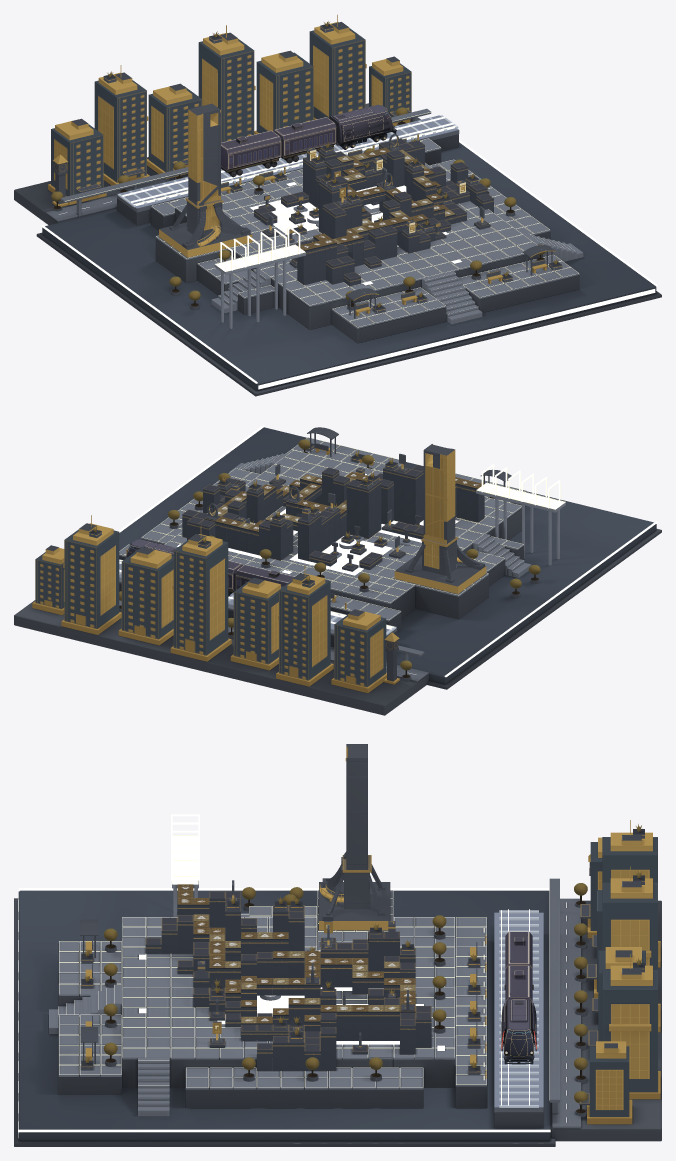
File: station_black_gold.glb
3 views of the same model, one above another, from view 1: azimuth 30°, elevation 25°; view 2: azimuth 150°, elevation 25°; view 3: azimuth 270°, elevation 25° (orthographic). The views are drawn at different scales.
Visible parts, largest first — view 1: station_static, street_asset_modules, station_ground, civic_tile_modules, tower_asset_modules, AM2_train_coach, civic_furnishing_modules, civic_asset_modules, V16_head_environment_metal, trees_asset_modules, Foundation front fascia, Sunken court.002 (+3 smaller); view 2: street_asset_modules, station_static, station_ground, civic_tile_modules, tower_asset_modules, civic_furnishing_modules, trees_asset_modules, civic_asset_modules, AM2_train_coach, Sunken court.002, Foundation edge coping, Foundation edge coping.001; view 3: station_static, station_ground, civic_tile_modules, street_asset_modules, tower_asset_modules, trees_asset_modules, civic_furnishing_modules, civic_asset_modules, V16_head_environment_metal, Foundation edge coping.001, AM2_train_coach, Foundation edge coping.
Boxes of the visible parts, x1,y1,x2,y2 form: station_static: (14, 103, 661, 396); street_asset_modules: (48, 14, 411, 206); station_ground: (42, 142, 656, 390); civic_tile_modules: (254, 138, 493, 286); tower_asset_modules: (159, 103, 252, 257); AM2_train_coach: (221, 117, 337, 177); civic_furnishing_modules: (103, 21, 562, 313); civic_asset_modules: (221, 134, 555, 318); V16_head_environment_metal: (329, 104, 396, 149); trees_asset_modules: (51, 107, 545, 310); Foundation front fascia: (258, 289, 655, 389); Sunken court.002: (250, 200, 318, 234); street_asset_modules: (32, 515, 399, 693); station_static: (14, 437, 661, 715); station_ground: (119, 427, 656, 684); civic_tile_modules: (182, 464, 484, 571); tower_asset_modules: (394, 443, 486, 593); civic_furnishing_modules: (89, 438, 483, 587); trees_asset_modules: (119, 439, 540, 681); civic_asset_modules: (126, 427, 511, 609); AM2_train_coach: (228, 560, 294, 596); Sunken court.002: (289, 536, 392, 575); Foundation edge coping: (444, 521, 657, 677); Foundation edge coping.001: (118, 425, 264, 532); station_static: (14, 878, 661, 1146); station_ground: (18, 890, 550, 1140); civic_tile_modules: (145, 884, 431, 1070); street_asset_modules: (579, 820, 660, 1124); tower_asset_modules: (319, 744, 390, 930); trees_asset_modules: (103, 883, 587, 1117); civic_furnishing_modules: (81, 824, 644, 1075); civic_asset_modules: (80, 919, 486, 1078); V16_head_environment_metal: (501, 999, 536, 1064); Foundation edge coping.001: (18, 1129, 550, 1132); AM2_train_coach: (504, 931, 533, 1005); Foundation edge coping: (18, 888, 549, 890).
Size of the model in its own units: 36.6 by 14.12 by 40.8.
22 materials, 15 textured.
